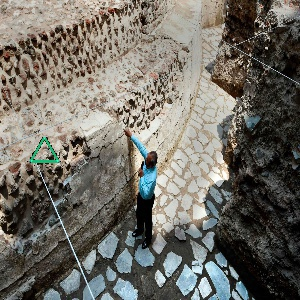triangle: (25, 134, 62, 166)
